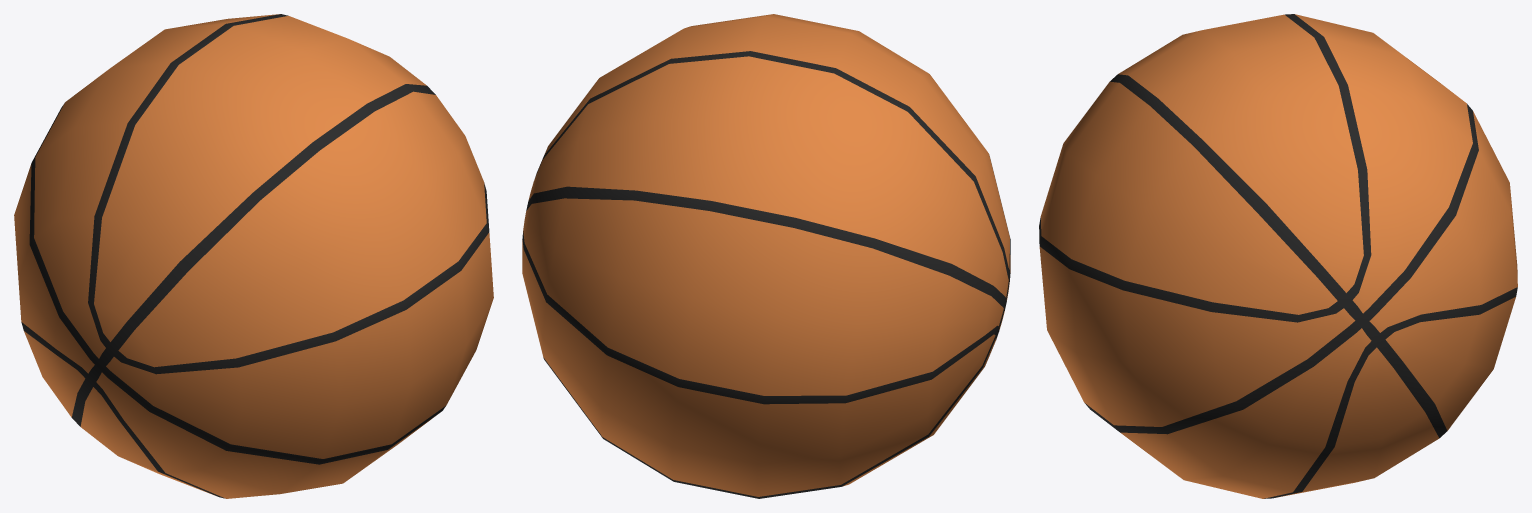
File: Basketball-Ep6.fbx
3 renders of one model, left to right at view 1: azimuth 30°, elevation 25°; view 2: azimuth 150°, elevation 25°; view 3: azimuth 270°, elevation 25°, orthographic.
Visible parts, largest first — view 1: Basketball; view 2: Basketball; view 3: Basketball.
Part boxes in pixels (box(x1,y1,x2,y2)): Basketball: box(14, 14, 493, 498); Basketball: box(522, 14, 1010, 498); Basketball: box(1039, 14, 1517, 498).
Size of the model in its own units: 429 by 427 by 425.
